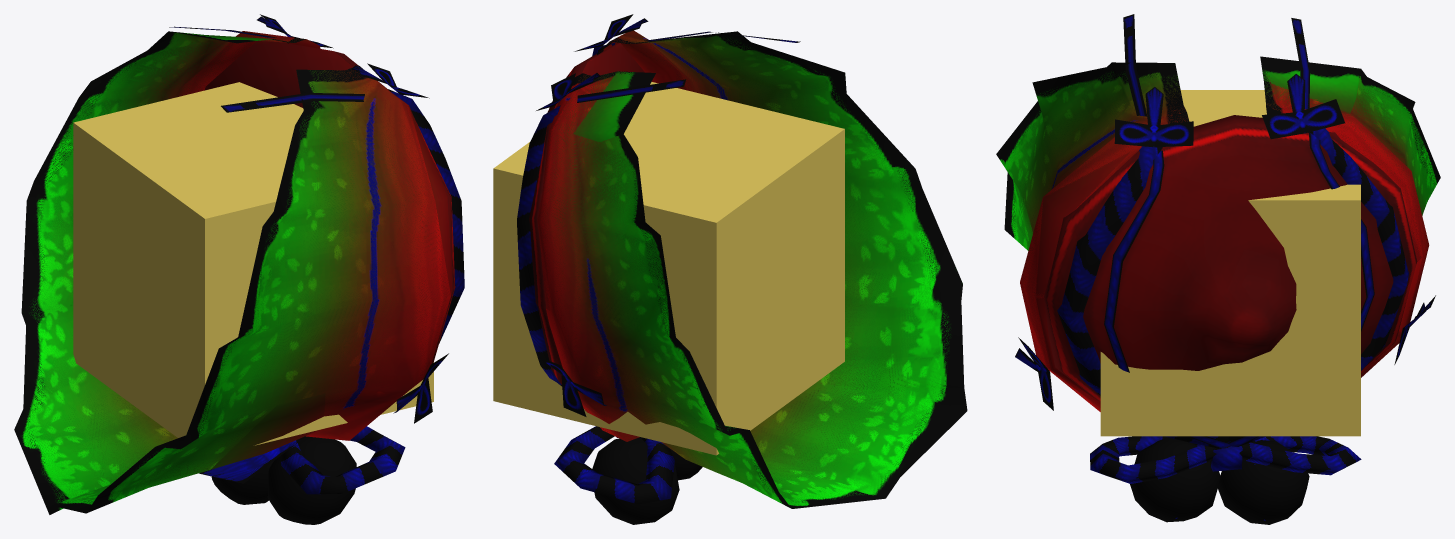
The picture shows the model from 3 angles, left to right: view 1: azimuth 30°, elevation 25°; view 2: azimuth 150°, elevation 25°; view 3: azimuth 270°, elevation 25°; orthographic projection. The views are drawn at different scales.
Visible parts, largest first — view 1: object0005_G1186, object0076_Box; view 2: object0005_G1186, object0076_Box; view 3: object0005_G1186, object0076_Box.
Part boxes in pixels (x1,y1,x2,y2): object0005_G1186: [14, 14, 464, 524]; object0076_Box: [73, 82, 433, 445]; object0005_G1186: [517, 14, 967, 524]; object0076_Box: [493, 82, 844, 455]; object0005_G1186: [996, 14, 1440, 524]; object0076_Box: [1100, 90, 1360, 436].
Size of the model in its own units: 0.8594 by 1.01 by 0.8611.
